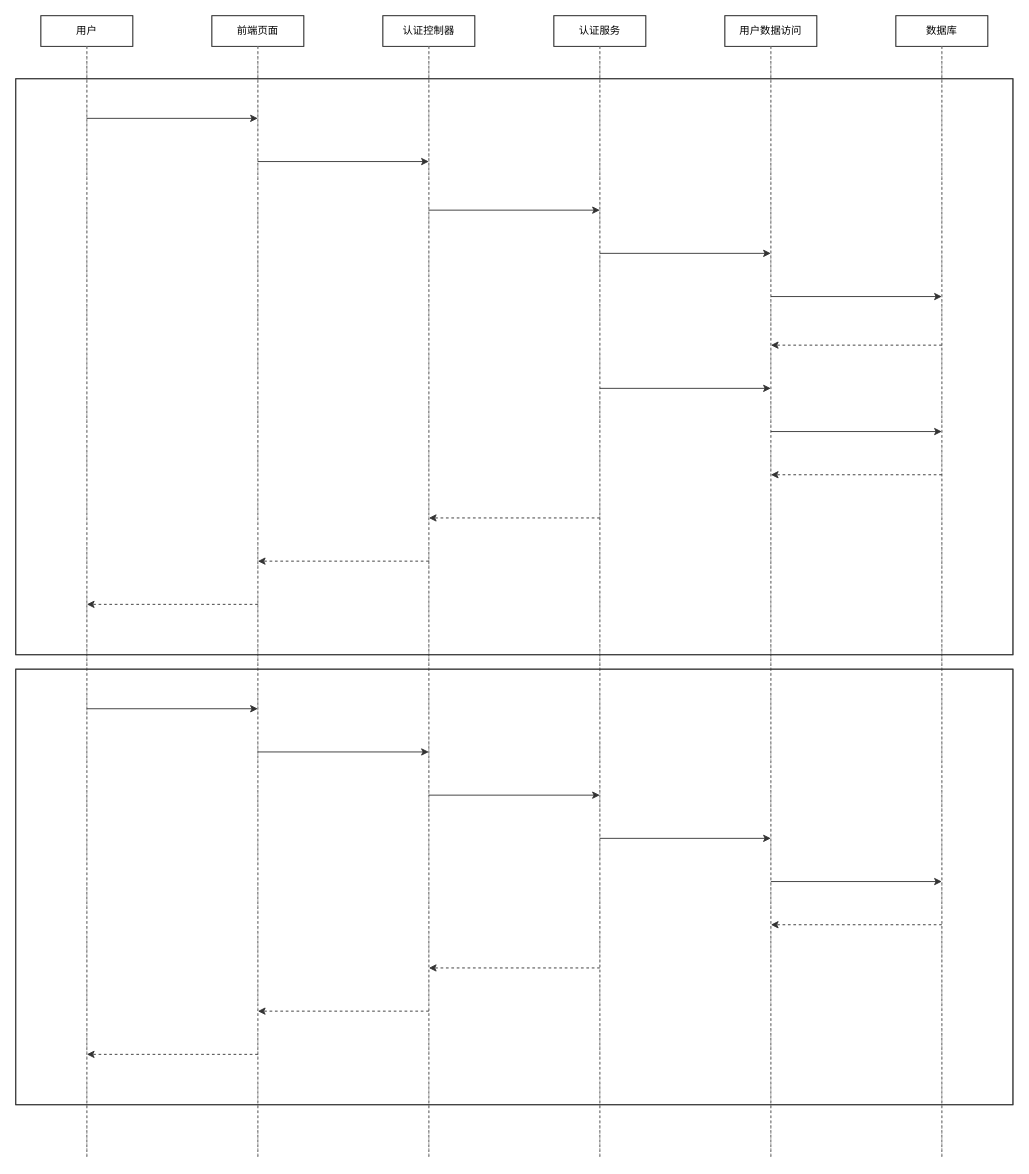
Some shapes in this 1029 by 1174 pixel diagram are drawn without their labels. Here are the shapes that lost their labels. From the top down, the centre of each, then its label:
point (514, 366): [学号未被注册：注册成功]
point (514, 886): [学号已注册：返回 1002]
